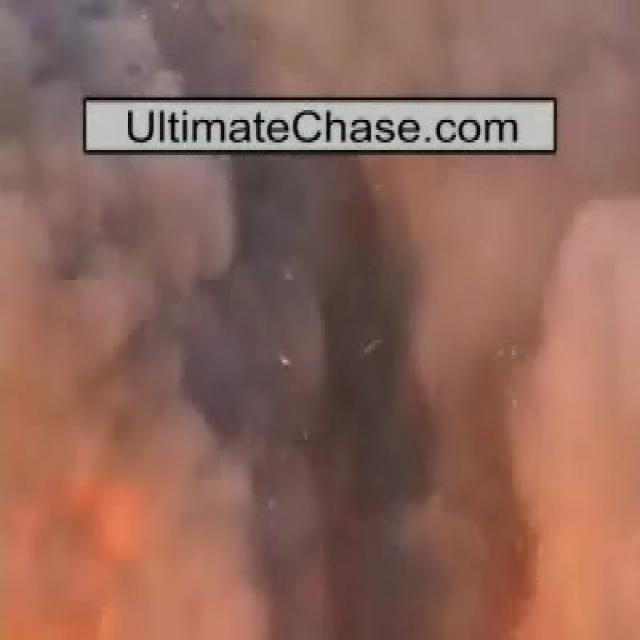smoke: (15, 170, 608, 582), (11, 2, 593, 97)
